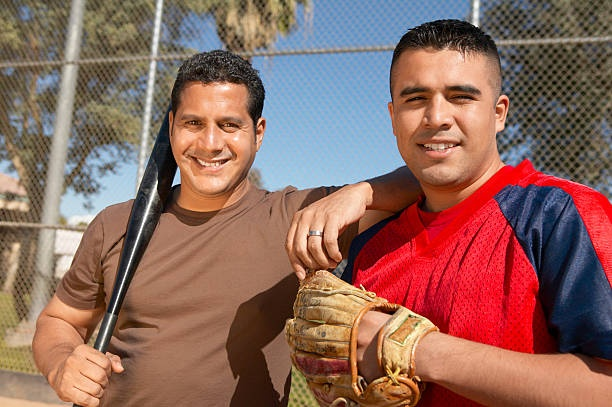bita: (88, 129, 173, 365)
